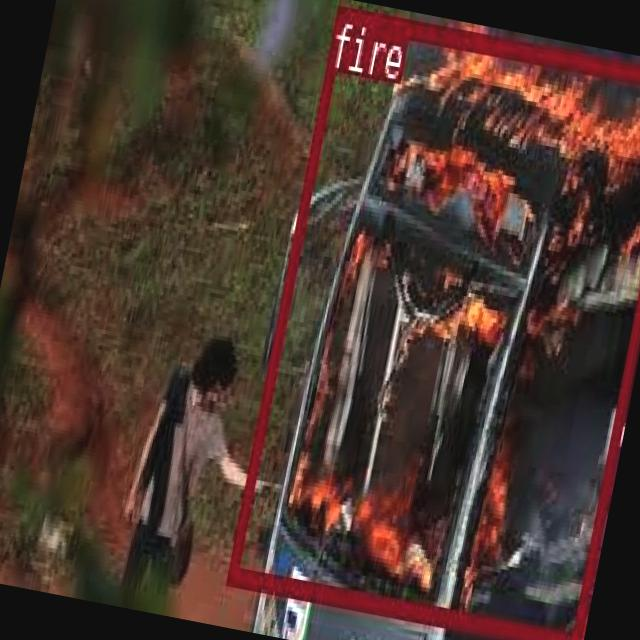fire: (225, 5, 640, 640)
